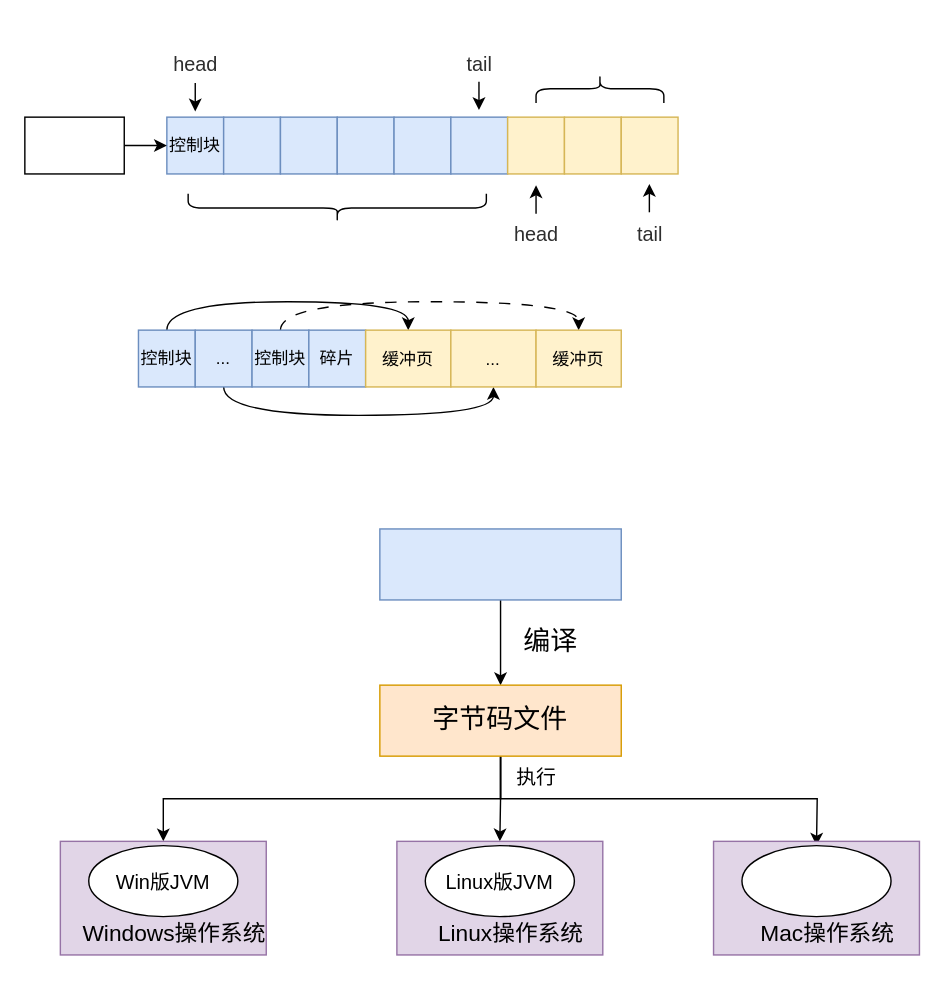
Image size: 944x985. Some labels were removed from this diagram. The box of each missing label's shape, as (x1, y1, x2, y2) in pixels:
Java程序: (378, 528, 621, 600)
LRU链表: (23, 116, 124, 174)
Mac版JVM: (741, 844, 891, 917)
冷数据区域(old): (535, 73, 664, 103)
热数据区域(young): (187, 192, 486, 222)
